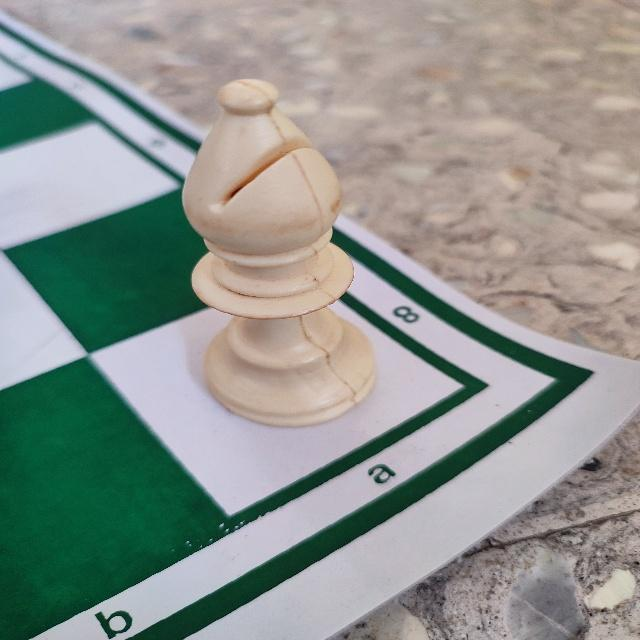Bishop: (178, 73, 382, 431)
